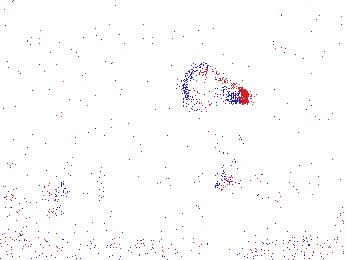flame jellyfish: (178, 61, 250, 116), (213, 120, 266, 191), (43, 160, 104, 206)
